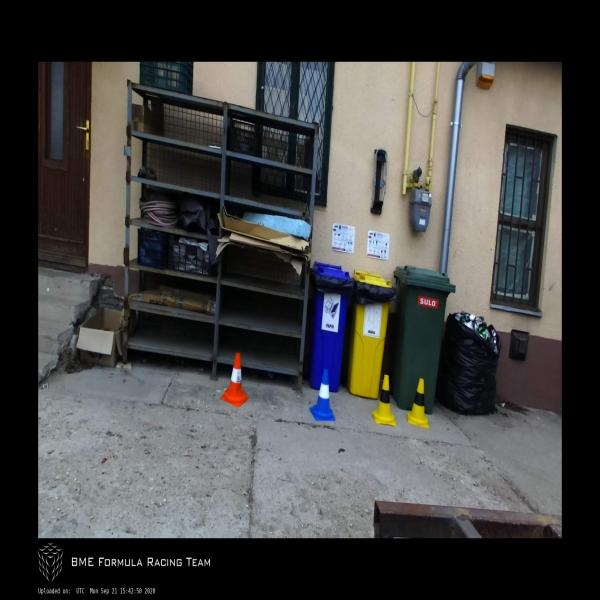blue_cone: (310, 370, 335, 421)
orange_cone: (220, 353, 249, 407)
yellow_cone: (371, 376, 396, 426), (406, 379, 429, 427)
